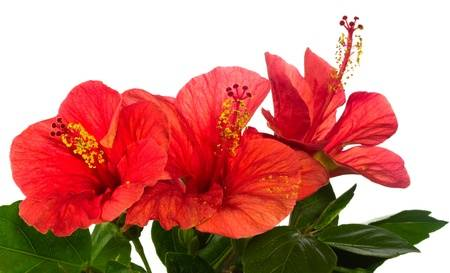Hibiscus: (249, 10, 437, 211), (154, 61, 319, 244), (17, 76, 164, 245)
